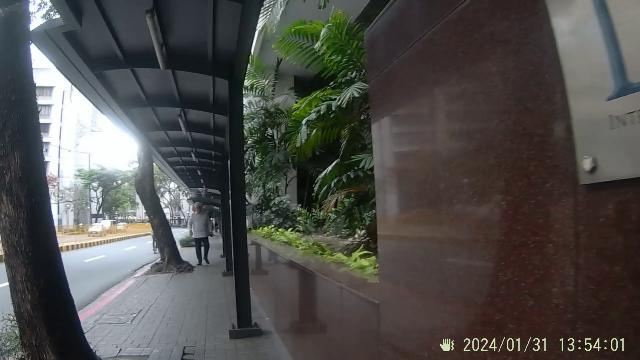tree: (0, 0, 88, 354), (130, 158, 186, 272)
